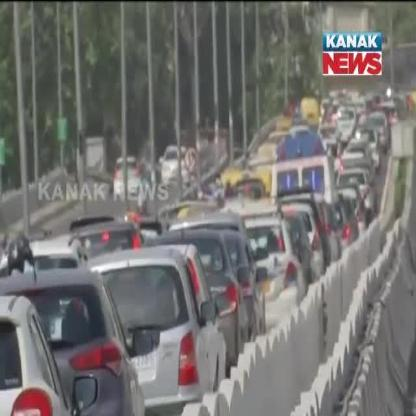priority: (271, 130, 329, 188)
